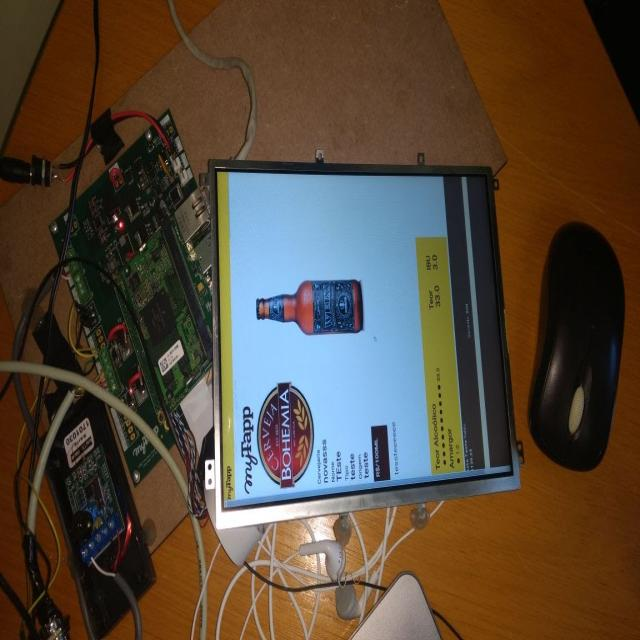som: (121, 224, 210, 403)
